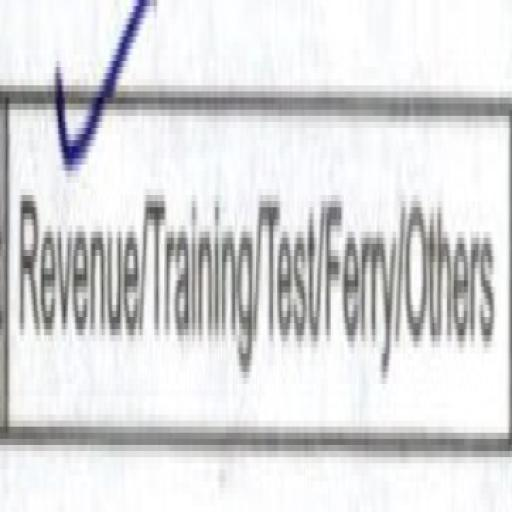check: (11, 5, 144, 447)
